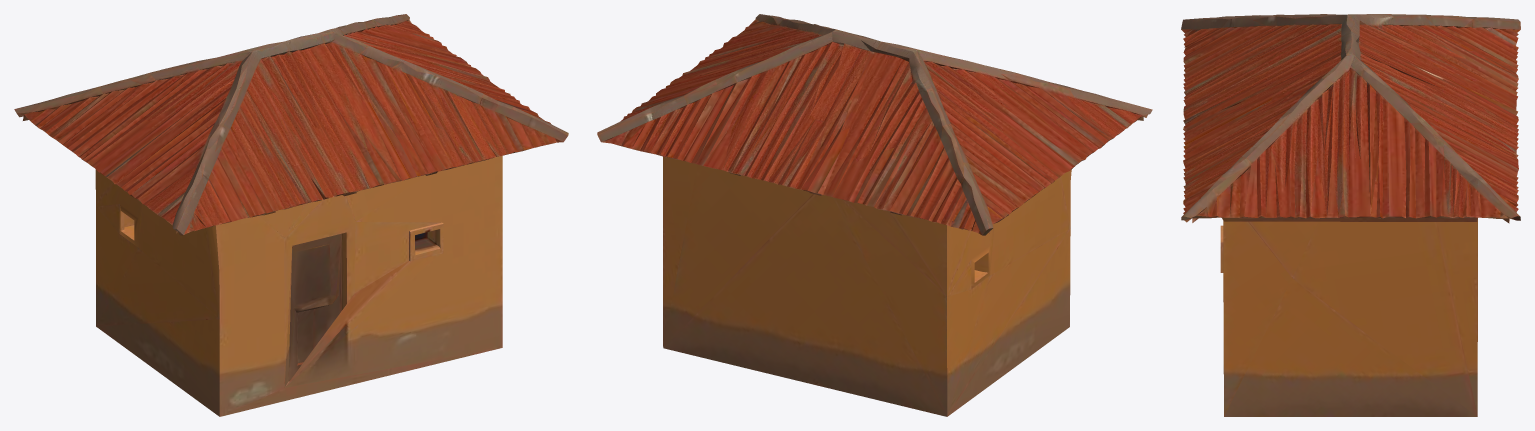
File: House_MudBrick_TinRoof.glb
3 views of the same model, side by side, from view 1: azimuth 30°, elevation 25°; view 2: azimuth 150°, elevation 25°; view 3: azimuth 270°, elevation 25° (orthographic). The views are drawn at different scales.
Size of the model in its own units: 1.9 by 1.38 by 1.38.
Materials: 1 (1 with a texture image).
